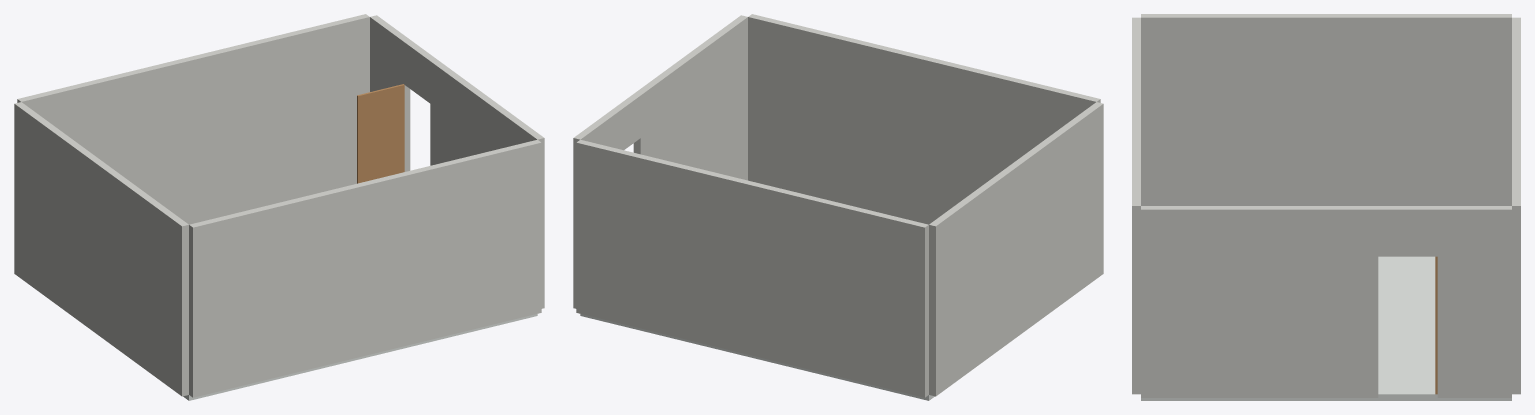
3 renders of one model, left to right at view 1: azimuth 30°, elevation 25°; view 2: azimuth 150°, elevation 25°; view 3: azimuth 270°, elevation 25°, orthographic. The views are drawn at different scales.
Visible parts, largest first — view 1: room:north:full, room:south:full, room:west:full, room:east:high, door:leaf, room:east:low, room:east:lintel, room:floor; view 2: room:south:full, room:north:full, room:west:full, room:east:high, room:east:low, room:east:lintel, room:floor; view 3: room:west:full, room:east:high, room:east:low, room:floor, room:south:full, room:north:full, room:east:lintel, door:leaf.
Part boxes in pixels (<box>): room:north:full: <box>189,139,541,397</box>; room:south:full: <box>17,14,369,224</box>; room:west:full: <box>14,102,188,396</box>; room:east:high: <box>430,59,544,308</box>; door:leaf: <box>357,84,404,183</box>; room:east:low: <box>370,15,410,171</box>; room:east:lintel: <box>403,40,436,103</box>; room:floor: <box>183,314,537,400</box>; room:south:full: <box>576,139,928,397</box>; room:north:full: <box>748,14,1100,224</box>; room:west:full: <box>929,102,1103,396</box>; room:east:high: <box>633,15,747,180</box>; room:east:low: <box>573,113,613,308</box>; room:east:lintel: <box>607,94,640,150</box>; room:floor: <box>580,314,934,400</box>; room:west:full: <box>1141,14,1511,205</box>; room:east:high: <box>1141,206,1378,397</box>; room:east:low: <box>1437,206,1511,397</box>; room:floor: <box>1141,256,1511,400</box>; room:south:full: <box>1512,17,1520,394</box>; room:north:full: <box>1132,17,1140,394</box>; room:east:lintel: <box>1378,206,1437,256</box>; door:leaf: <box>1435,256,1437,394</box>.
Bounding box in the file's own units: 6.24 × 2.9 × 5.24.
